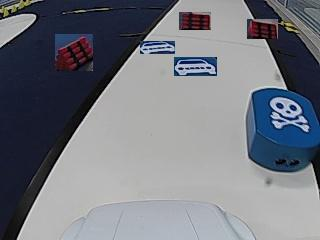danger: (270, 97, 307, 132)
